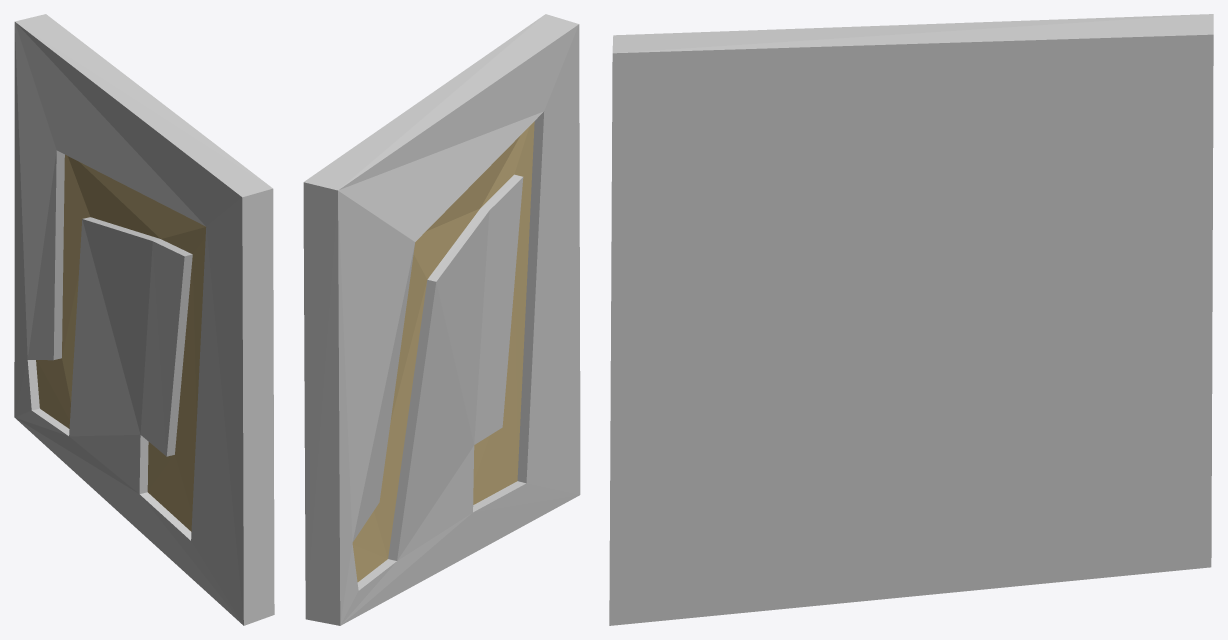
Rendered from MusicLabel 1.fbx.
3 renders of one model, left to right at view 1: azimuth 30°, elevation 25°; view 2: azimuth 150°, elevation 25°; view 3: azimuth 270°, elevation 25°, orthographic. The views are drawn at different scales.
Visible parts, largest first — view 1: Cube; view 2: Cube; view 3: Cube.
Part boxes in pixels (box(x1,y1,x2,y2)): Cube: box(14, 14, 274, 625); Cube: box(303, 14, 580, 625); Cube: box(609, 14, 1213, 625).
Size of the model in its own units: 25.27 by 216 by 199.
